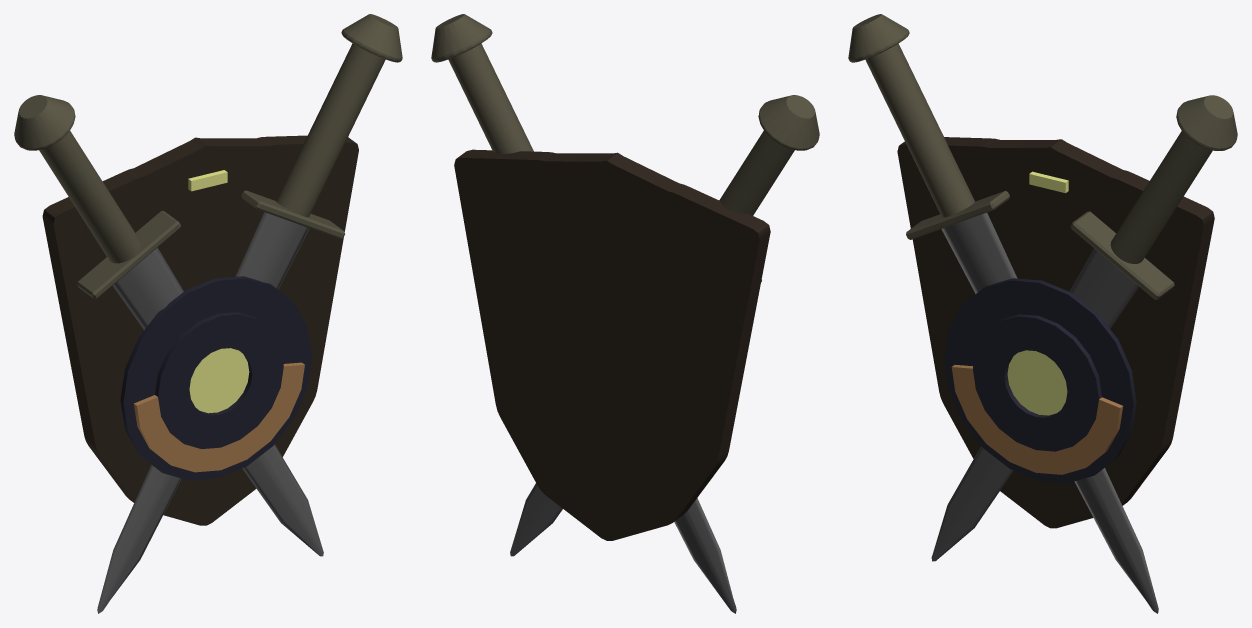
The model's file is lvl2_CrossedSwords.fbx.
The picture shows the model from 3 angles, left to right: view 1: azimuth 30°, elevation 25°; view 2: azimuth 150°, elevation 25°; view 3: azimuth 330°, elevation 25°; orthographic projection.
Parts seen in each view (by area): view 1: pCube3, Shield, pCube5, pCylinder2, pCube2, pCylinder1, pCone1, pCube1, pCone2, pCube6, pCube4; view 2: pCube3, pCylinder2, pCylinder1, pCone1, pCube5, pCone2, pCube2; view 3: pCube3, Shield, pCube2, pCylinder1, pCube5, pCylinder2, pCone2, pCube6, pCone1, pCube1, pCube4.
Boxes of the visible parts, left/top/right/bottom form: pCube3: left=42, top=135, right=358, bottom=525; Shield: left=120, top=276, right=312, bottom=480; pCube5: left=97, top=212, right=309, bottom=613; pCylinder2: left=276, top=43, right=385, bottom=217; pCube2: left=112, top=247, right=323, bottom=556; pCylinder1: left=39, top=131, right=140, bottom=263; pCone1: left=14, top=95, right=75, bottom=150; pCube1: left=77, top=211, right=180, bottom=298; pCone2: left=341, top=14, right=402, bottom=62; pCube6: left=241, top=190, right=344, bottom=239; pCube4: left=188, top=170, right=227, bottom=191; pCube3: left=454, top=149, right=770, bottom=540; pCylinder2: left=448, top=43, right=533, bottom=153; pCylinder1: left=719, top=131, right=794, bottom=215; pCone1: left=758, top=95, right=819, bottom=150; pCube5: left=674, top=498, right=736, bottom=613; pCone2: left=431, top=14, right=492, bottom=62; pCube2: left=510, top=483, right=562, bottom=556; pCube3: left=897, top=137, right=1214, bottom=528; Shield: left=944, top=278, right=1136, bottom=482; pCube2: left=941, top=212, right=1158, bottom=613; pCylinder1: left=865, top=43, right=974, bottom=217; pCube5: left=931, top=248, right=1138, bottom=561; pCylinder2: left=1110, top=131, right=1212, bottom=263; pCone2: left=1176, top=95, right=1237, bottom=150; pCube6: left=1070, top=211, right=1174, bottom=299; pCone1: left=848, top=14, right=909, bottom=62; pCube1: left=906, top=191, right=1009, bottom=239; pCube4: left=1029, top=171, right=1068, bottom=193.
Size of the model in its own units: 143 by 192 by 21.87.
